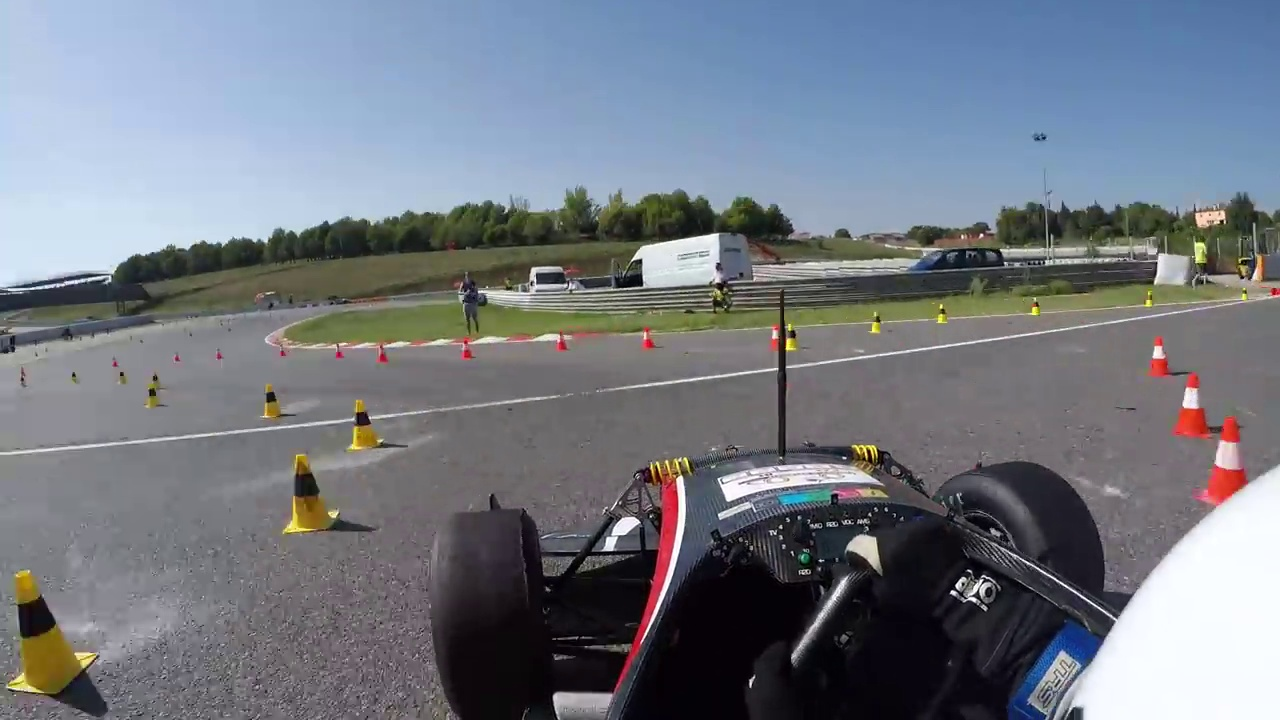Cone: (9, 567, 89, 691), (1197, 416, 1261, 504), (286, 453, 332, 534), (1168, 372, 1211, 439), (352, 398, 381, 450), (1147, 335, 1171, 380), (263, 380, 290, 418)
